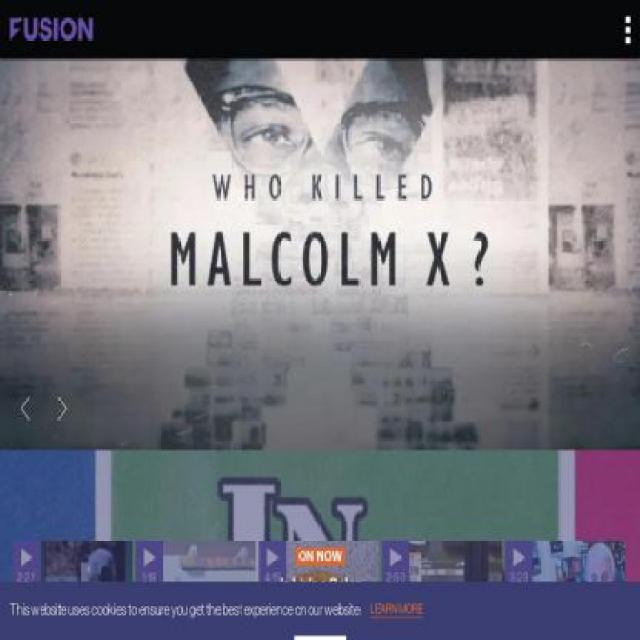button: (0, 58, 640, 451), (15, 540, 134, 638), (138, 540, 257, 638), (262, 540, 380, 638), (385, 540, 503, 638), (508, 540, 626, 638), (284, 617, 356, 632), (12, 392, 37, 426), (50, 392, 75, 426), (622, 8, 635, 67), (370, 604, 422, 618), (632, 540, 639, 638), (293, 636, 347, 639)
